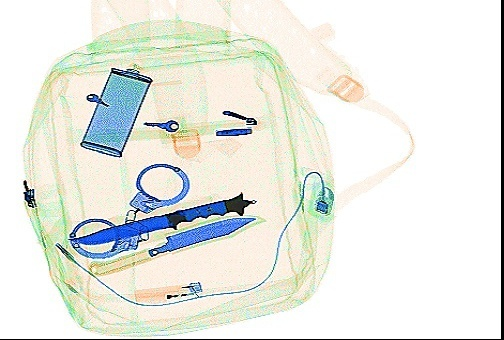handcuffs: (66, 161, 190, 256)
knife: (86, 213, 266, 278), (66, 191, 256, 248)
lighter: (133, 280, 202, 301)
zippooil: (79, 61, 153, 156)
